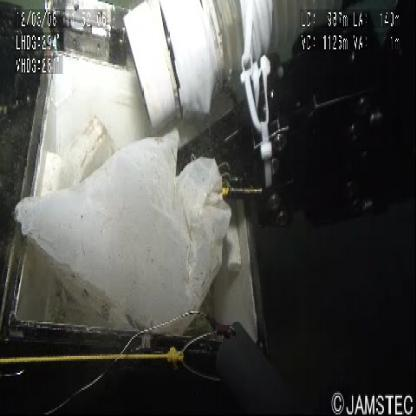Rov: (39, 1, 415, 328), (2, 1, 44, 108)
Rác: (9, 124, 240, 340)
